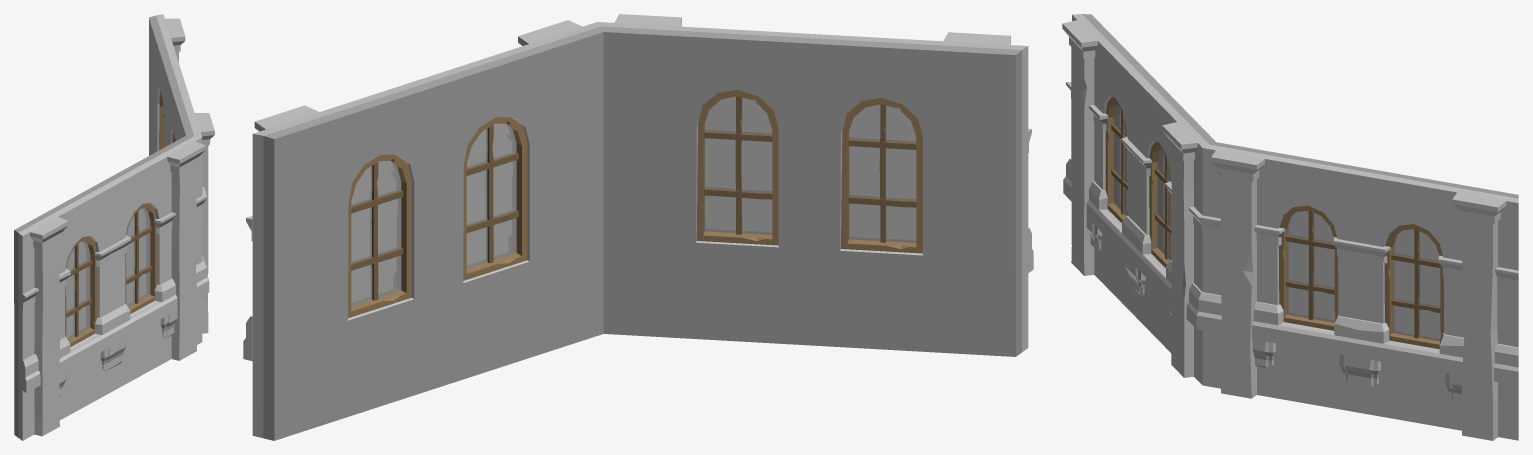
Rendered from SM_Bld_Wall_Curved_Large_02.fbx.
3 renders of one model, left to right at view 1: azimuth 30°, elevation 25°; view 2: azimuth 150°, elevation 25°; view 3: azimuth 270°, elevation 25°, orthographic. The views are drawn at different scales.
Visible parts, largest first — view 1: SM_Bld_Wall_Curved_Large_02; view 2: SM_Bld_Wall_Curved_Large_02; view 3: SM_Bld_Wall_Curved_Large_02.
Boxes of the visible parts, box(x1,y1,x2,y2) form: SM_Bld_Wall_Curved_Large_02: box(14, 14, 214, 440); SM_Bld_Wall_Curved_Large_02: box(243, 14, 1033, 440); SM_Bld_Wall_Curved_Large_02: box(1062, 14, 1518, 440).
Bounding box in the file's own units: 523 × 301 × 522.
